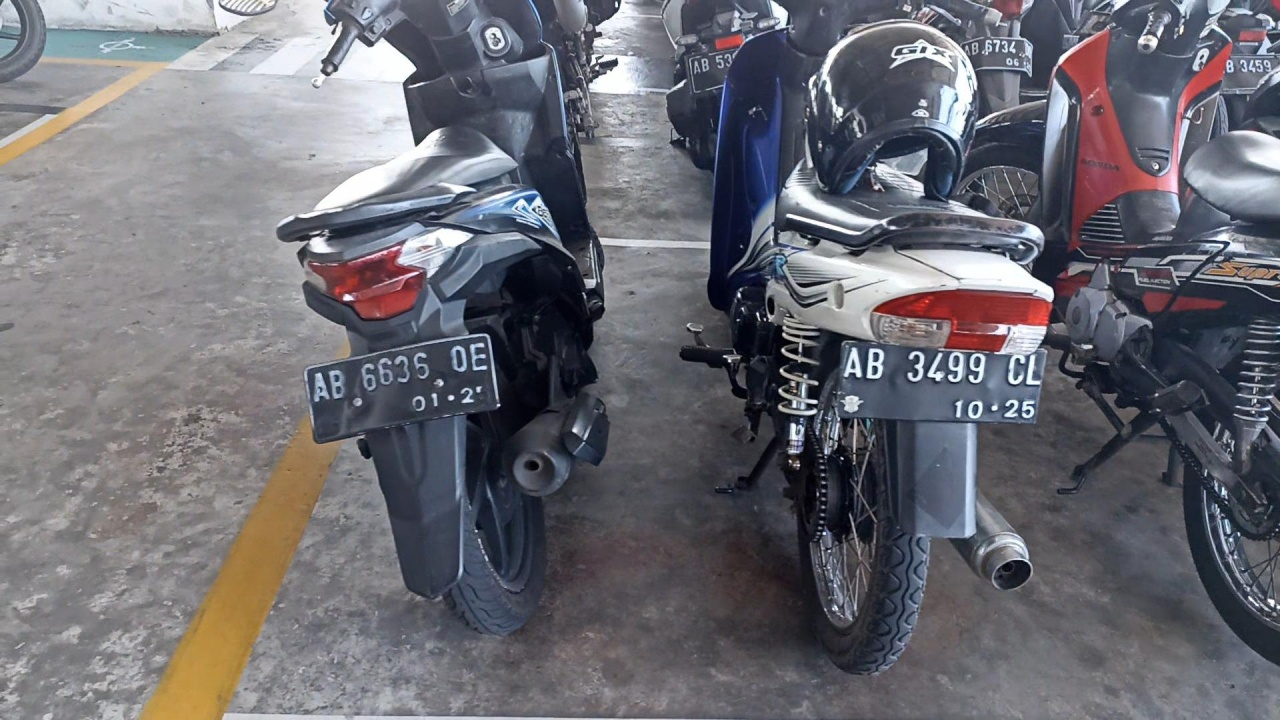plate: (304, 335, 498, 443), (839, 341, 1047, 423)
